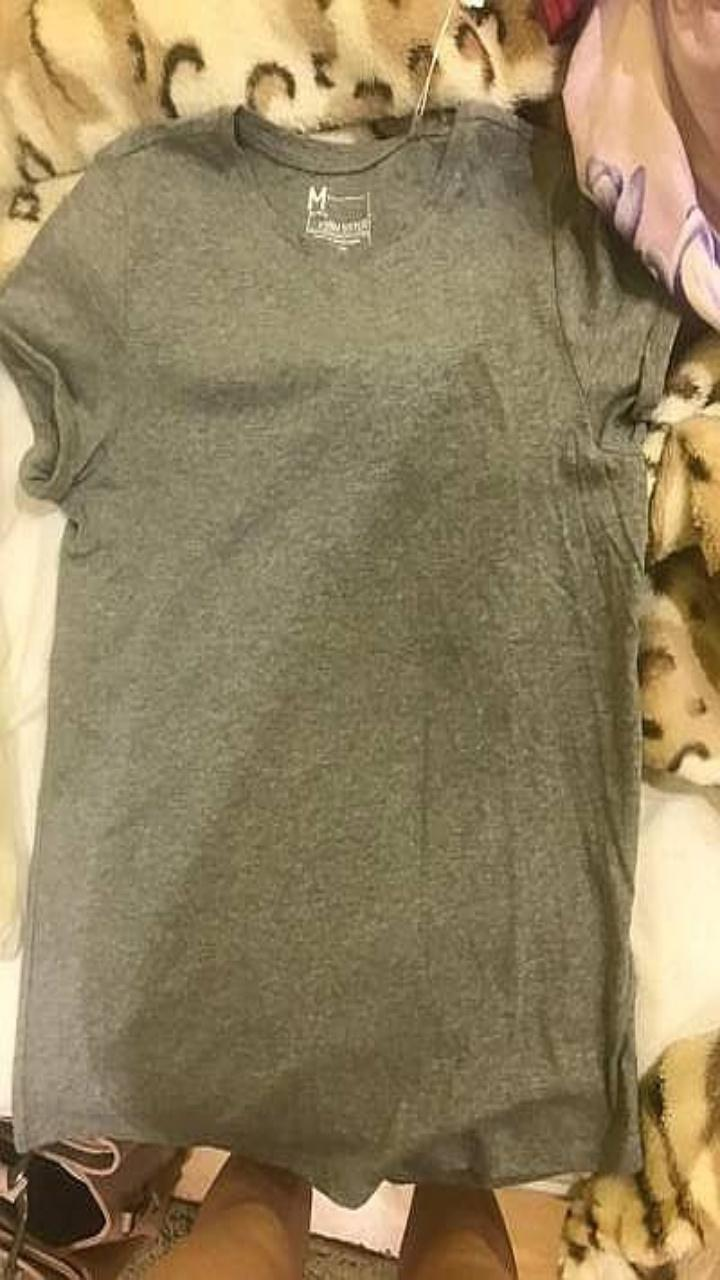T-Shirt: (0, 107, 677, 1204)
